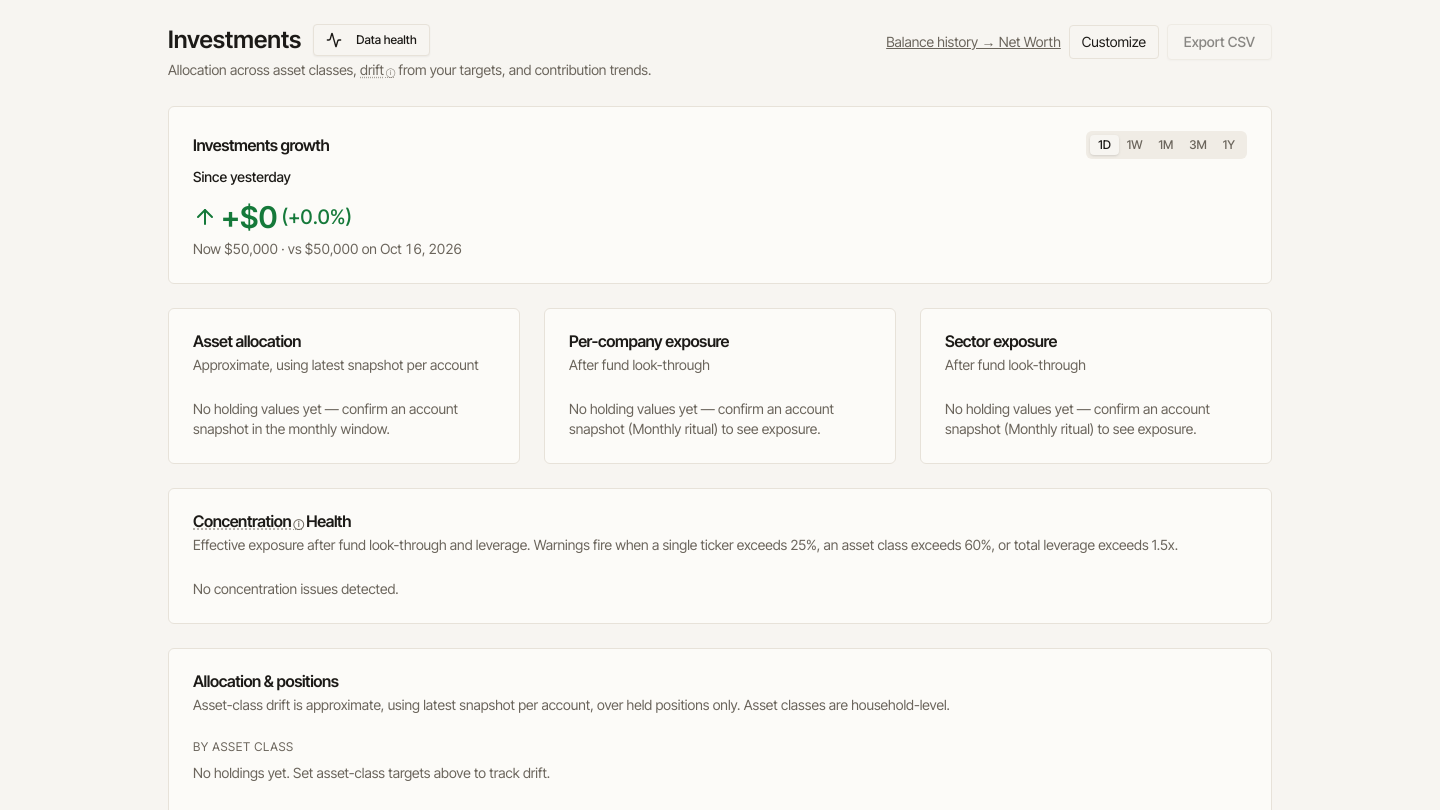
Test case: Investments cards edit mode › opens edit mode when "Customize" is clicked, shows controls
This screenshot has width=1440, height=810.
Expected: the text "Investments growth" is shown, [193,137,329,153]
Step 1. Click the button "Customize" → (1114, 42), box [1069,25,1159,59]
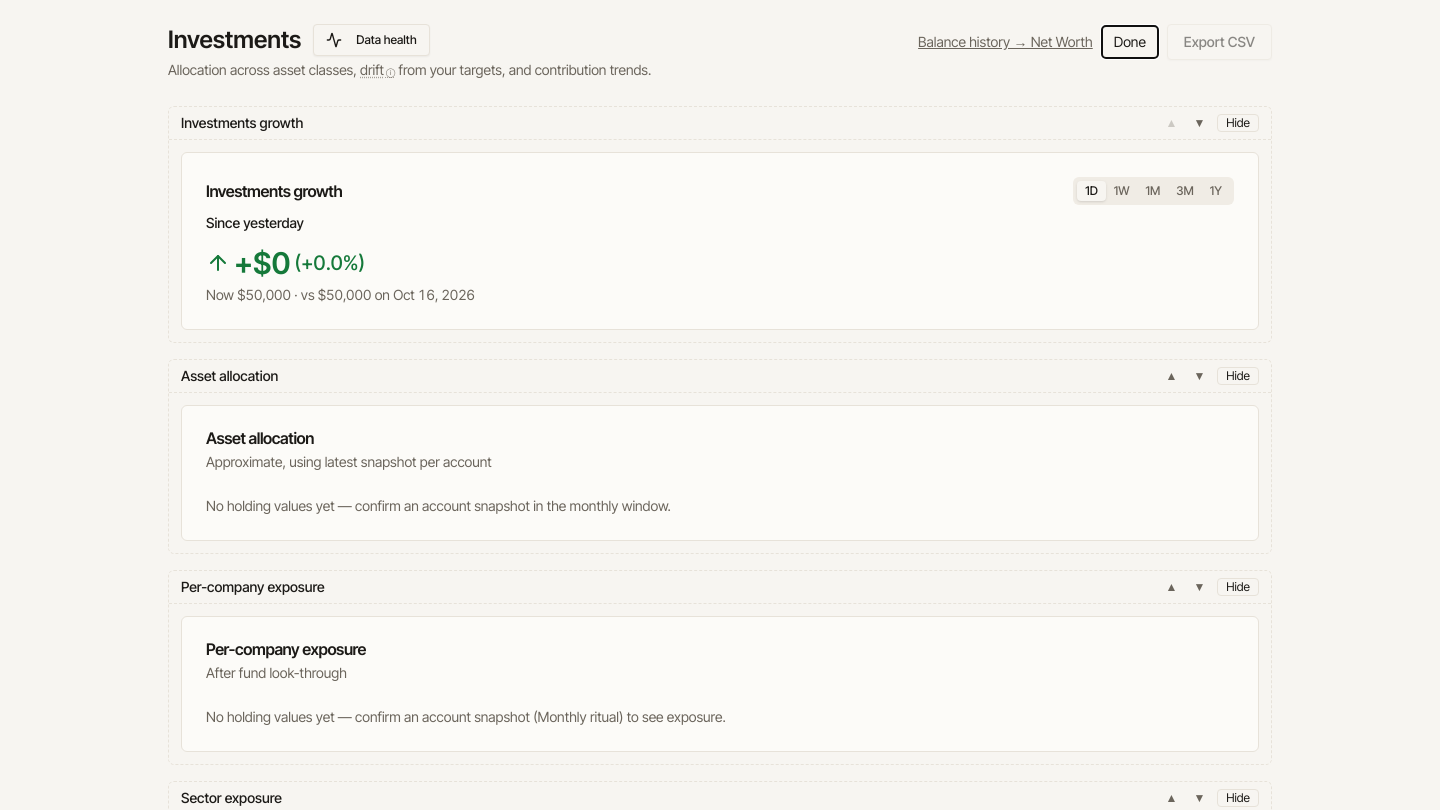
Expected: the button "Done" is shown, [1101,25,1159,59]
Expected: the 1st button "hide " is shown, [1217,114,1259,132]
